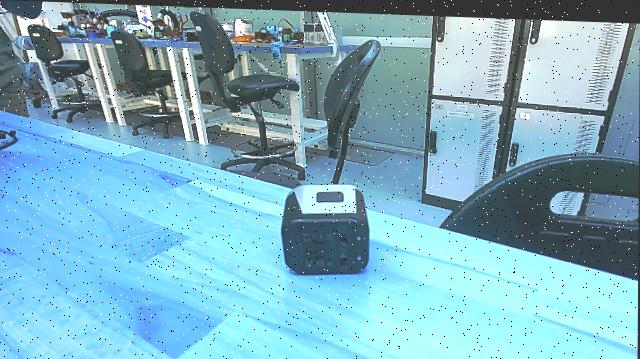adapter: (275, 174, 371, 281)
